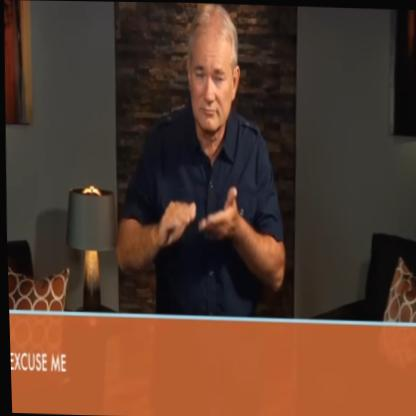ExcuseMe: (107, 1, 290, 310)
